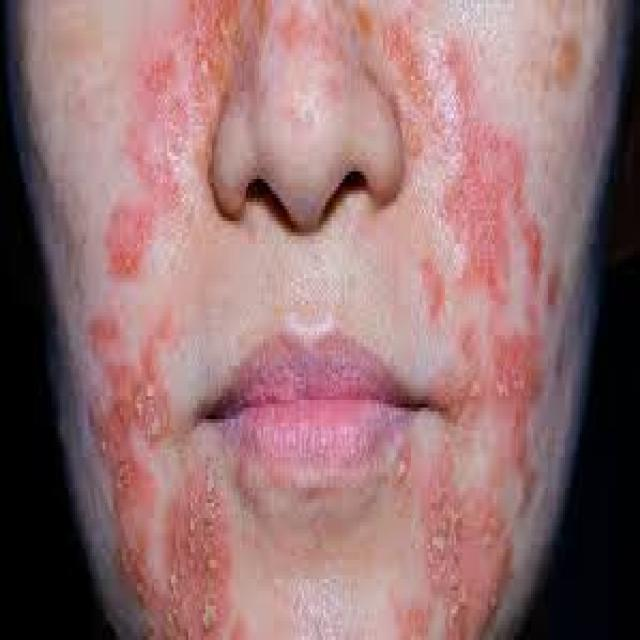Eczema: (392, 27, 544, 331), (95, 359, 229, 638), (111, 38, 189, 297), (412, 503, 531, 640), (448, 350, 548, 447)
